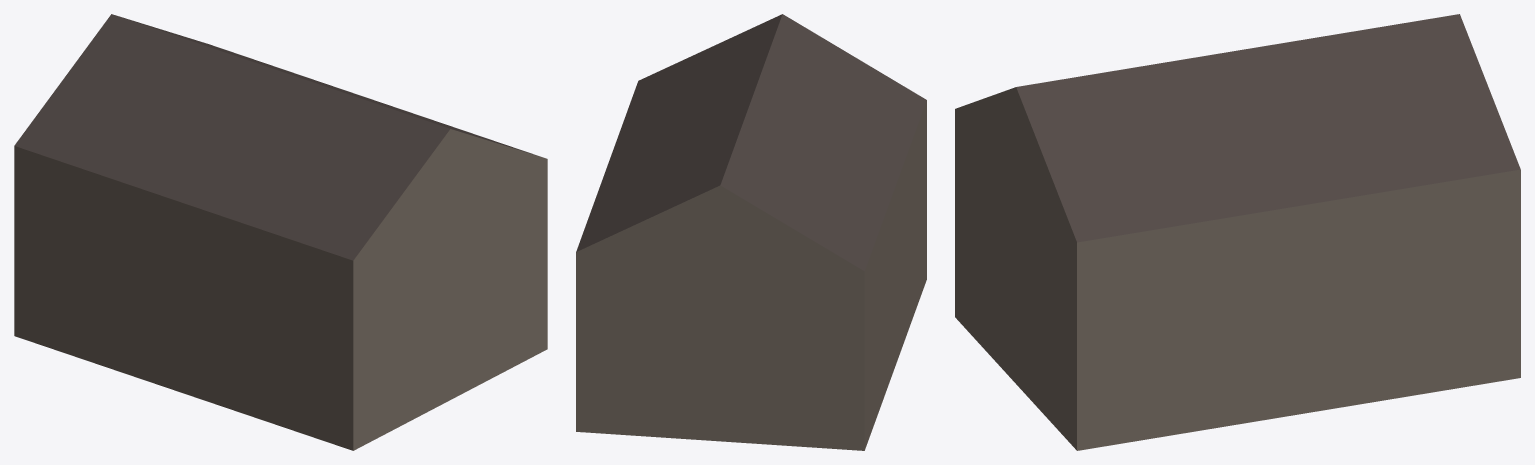
3 views of the same model, side by side, from view 1: azimuth 30°, elevation 25°; view 2: azimuth 150°, elevation 25°; view 3: azimuth 270°, elevation 25° (orthographic). The views are drawn at different scales.
Parts seen in each view (by area): view 1: HP-w757502022; view 2: HP-w757502022; view 3: HP-w757502022.
Part boxes in pixels (<box>): HP-w757502022: <box>14,14,547,450</box>; HP-w757502022: <box>576,14,926,450</box>; HP-w757502022: <box>955,14,1520,450</box>.
Bounding box in the file's own units: 12.76 × 8.55 × 14.76.
